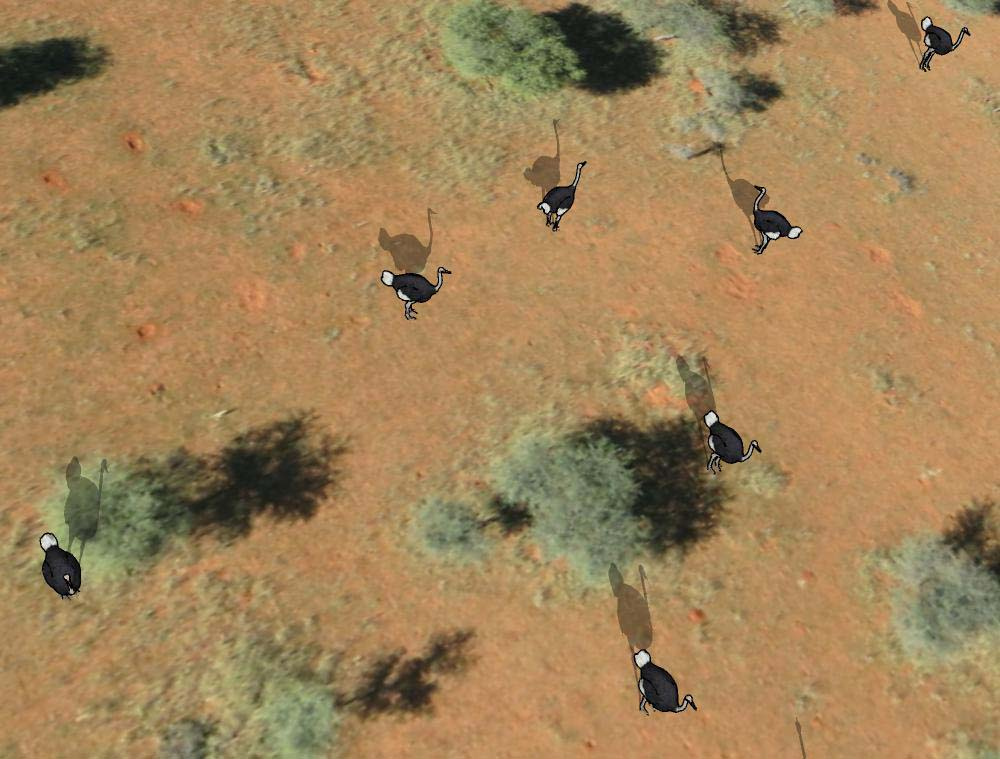ostrich: (631, 647, 700, 726), (742, 180, 805, 259), (381, 259, 450, 325), (537, 160, 589, 235), (704, 409, 764, 474), (33, 530, 86, 599), (913, 13, 973, 73)
